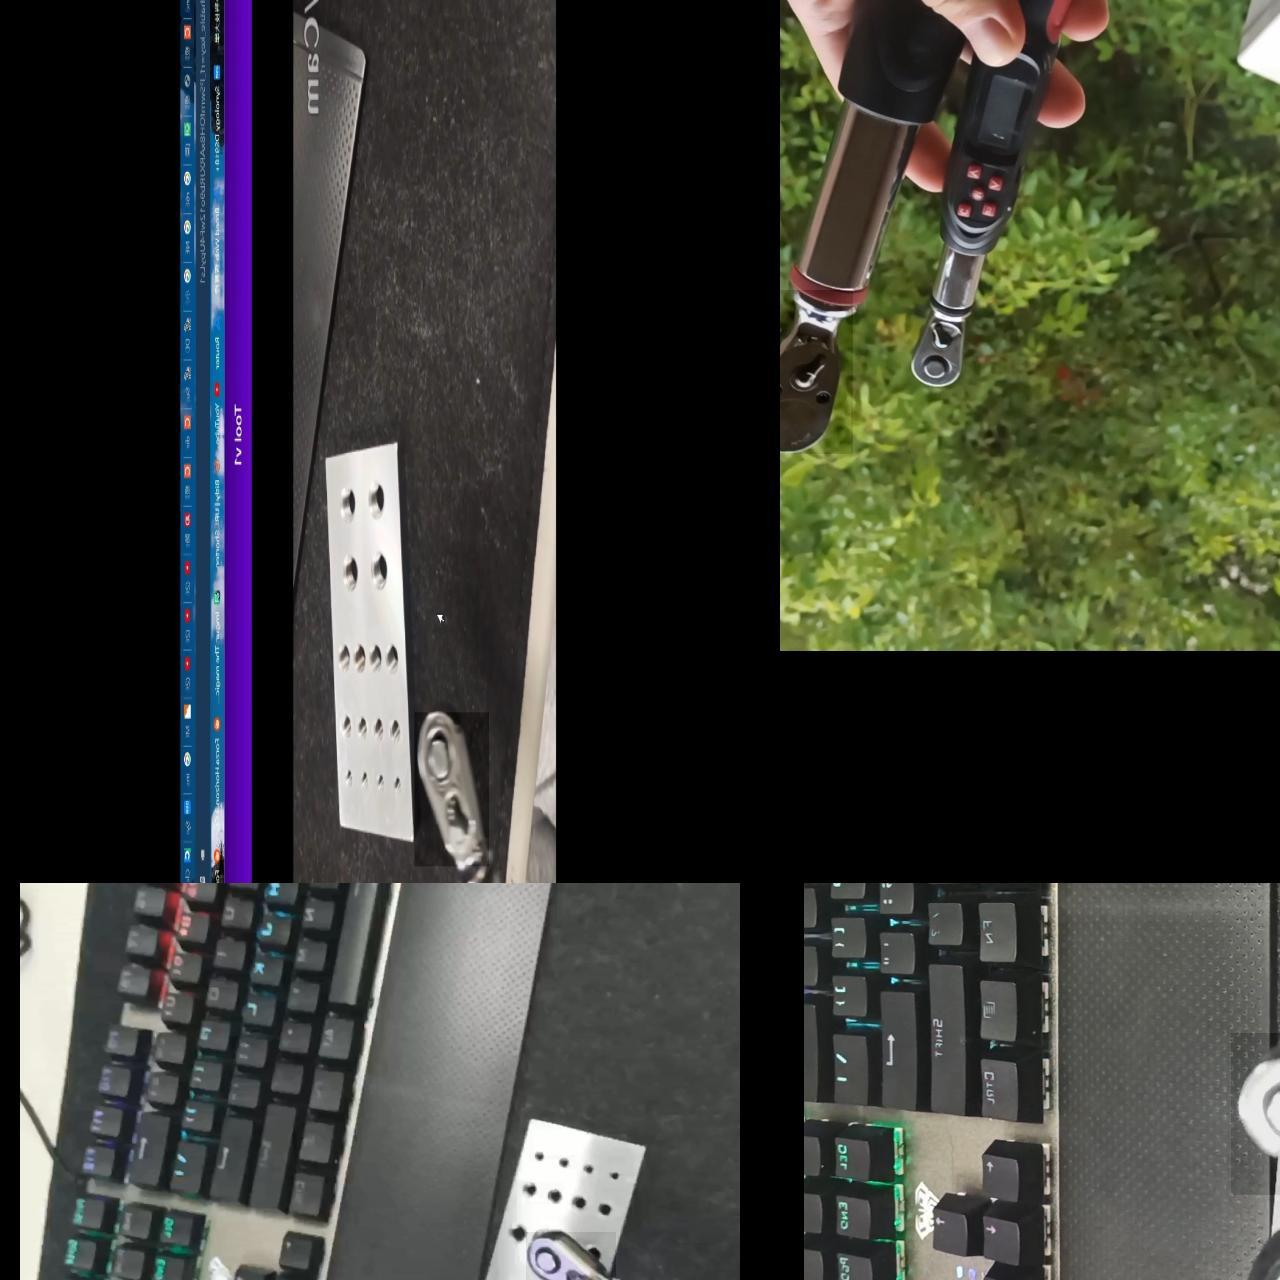Tool: (779, 290, 853, 452), (414, 712, 489, 865), (1231, 1032, 1280, 1194), (526, 1231, 617, 1280), (908, 308, 965, 386)
hole: (339, 547, 362, 601), (367, 553, 393, 600), (366, 482, 388, 520), (338, 490, 359, 522), (355, 713, 374, 747), (335, 638, 352, 674), (335, 713, 355, 740), (368, 715, 388, 742), (382, 648, 401, 676), (367, 642, 381, 679), (352, 647, 368, 676), (386, 720, 402, 744), (340, 769, 359, 790), (373, 774, 390, 794), (388, 772, 401, 798), (359, 772, 370, 797)
